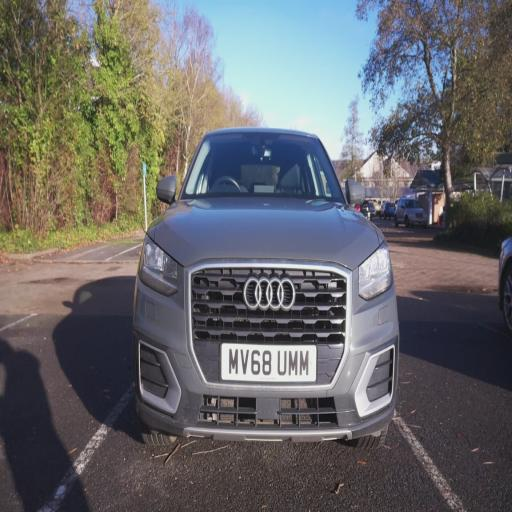numberplates: (221, 344, 317, 382)
